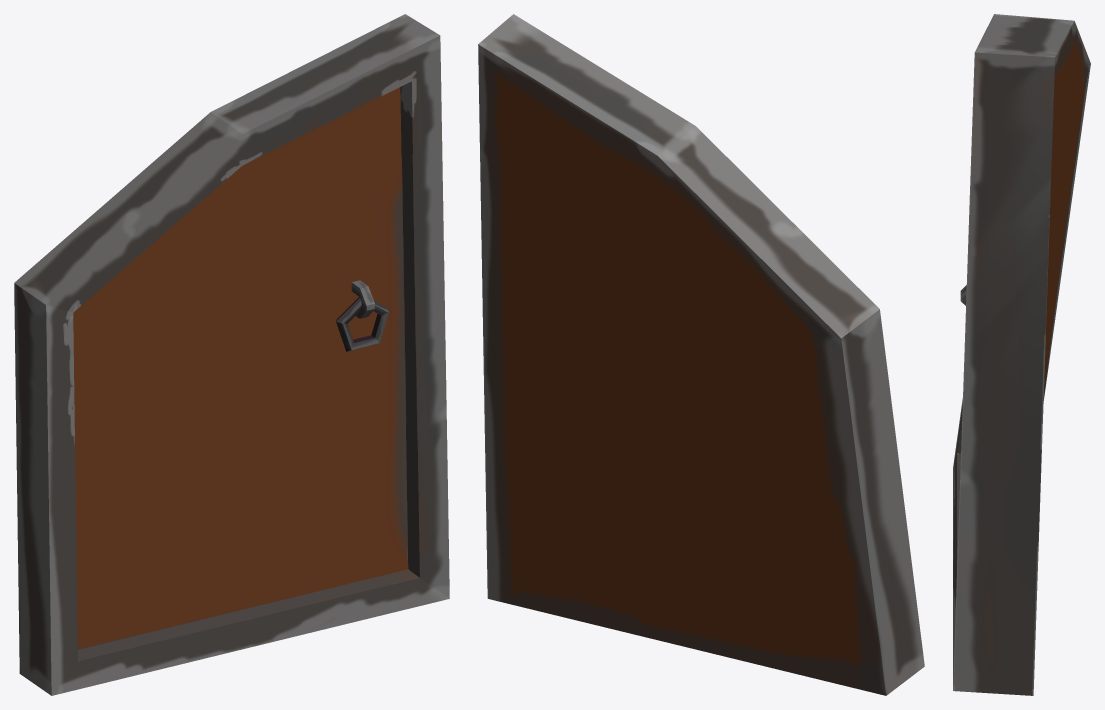
The model's file is LeftDoor.fbx.
The picture shows the model from 3 angles, left to right: view 1: azimuth 30°, elevation 25°; view 2: azimuth 150°, elevation 25°; view 3: azimuth 270°, elevation 25°; orthographic projection. The views are drawn at different scales.
Parts seen in each view (by area): view 1: IglooDoorL, Handle; view 2: IglooDoorL; view 3: IglooDoorL.
Boxes of the visible parts, bbox=[...] form: IglooDoorL: bbox=[14, 14, 449, 695]; Handle: bbox=[336, 297, 389, 351]; IglooDoorL: bbox=[478, 14, 924, 695]; IglooDoorL: bbox=[953, 14, 1090, 695].
Bounding box in the file's own units: 39.19 × 52.74 × 10.25.
Materials: 3 (3 with a texture image).
